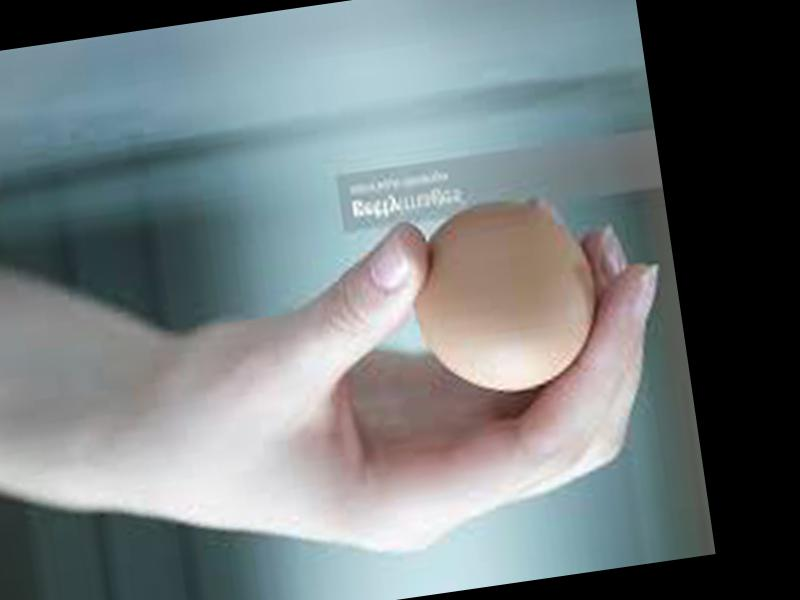Eggs: (397, 186, 607, 406)
